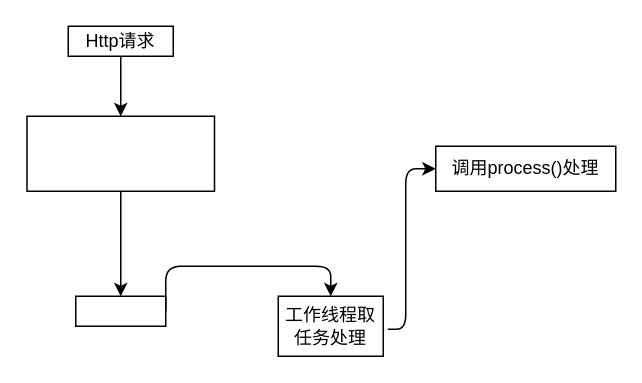
Some shapes in this 642 by 383 pixel diagram are drawn without their labels. The shapes that lost their labels are listed below. From the top down, each one's box as (x1, y1, x2, y2) in pixels, then its label:
(26, 115, 214, 191): 服务器主线程 创建http对象接收 放入m_read_buffer
(74, 295, 166, 326): 任务队列
